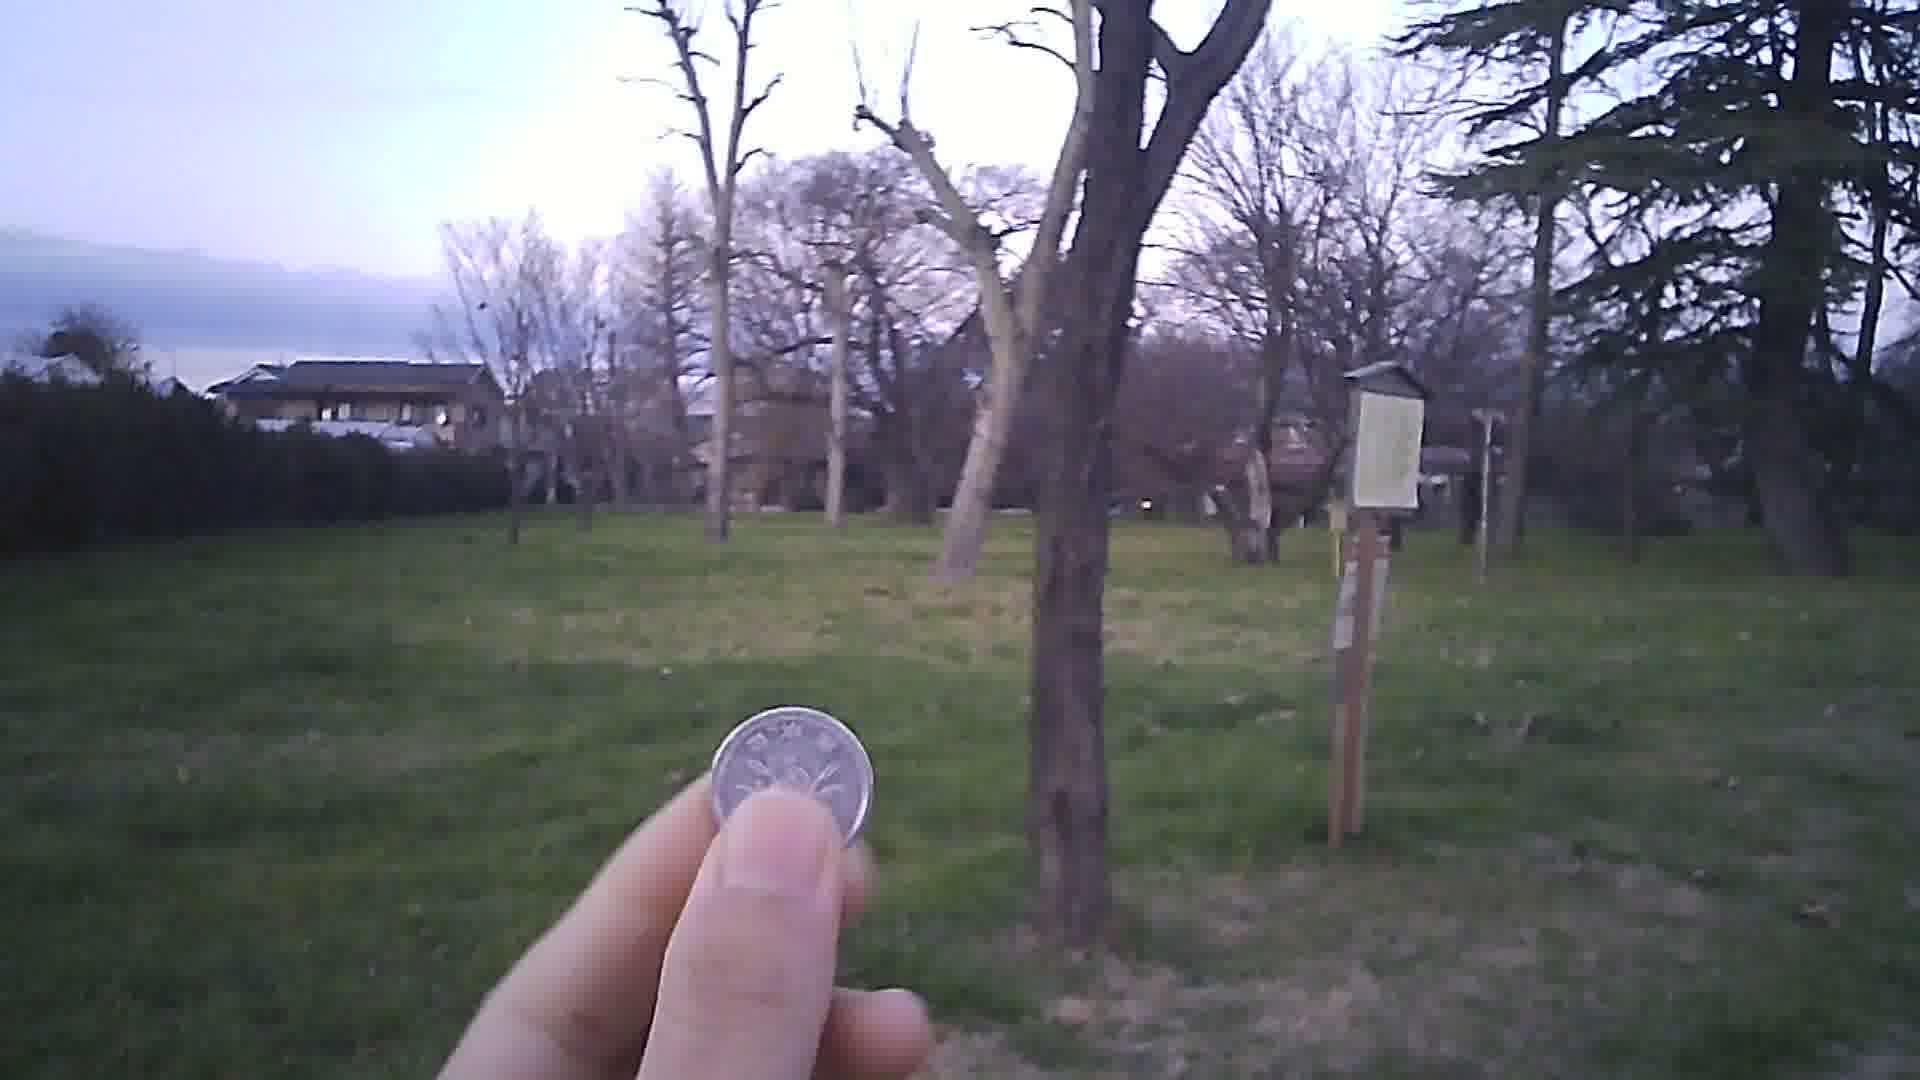1 Yen: (703, 699, 884, 856)
